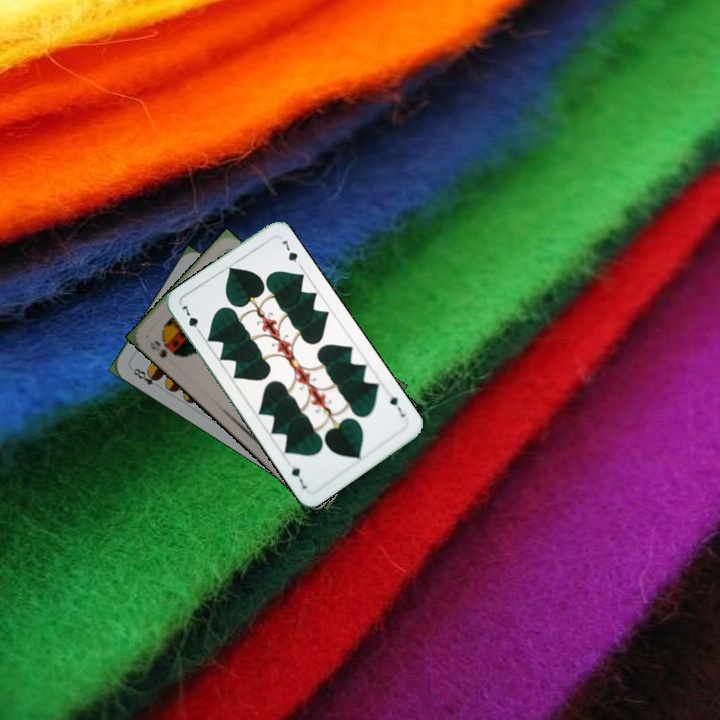E8: (127, 364, 163, 391)
G7: (178, 299, 205, 337), (385, 388, 408, 420)
SO: (146, 336, 170, 361)
